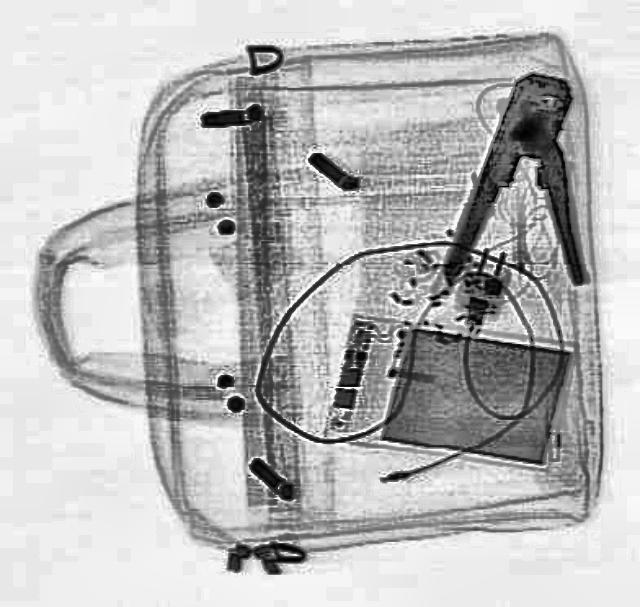Pliers: (441, 63, 613, 291)
